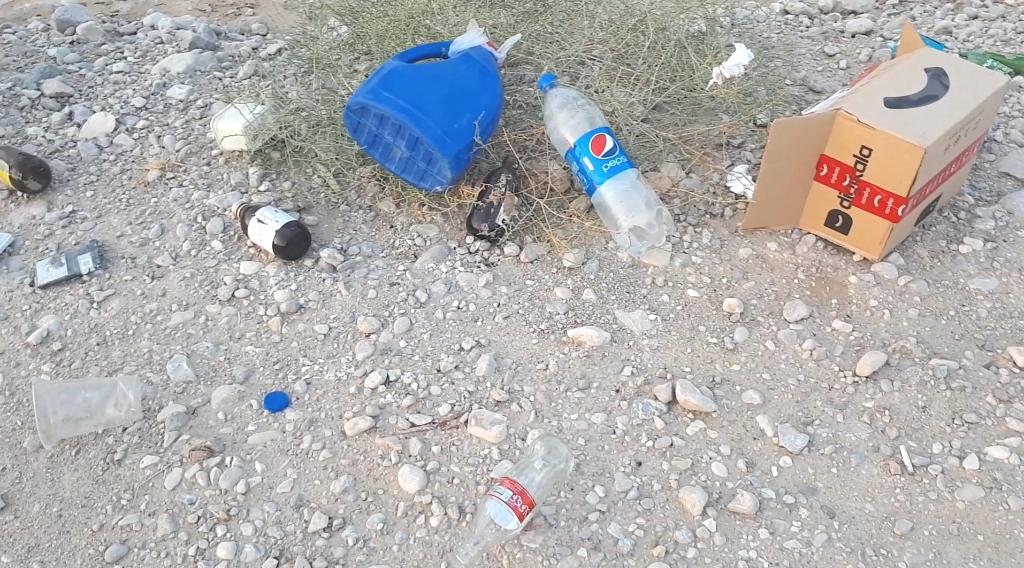garbage: (743, 32, 1014, 266), (517, 64, 696, 262), (336, 19, 533, 194), (343, 33, 503, 192), (537, 73, 675, 257), (430, 426, 592, 568), (447, 435, 575, 568), (221, 188, 322, 269), (0, 130, 67, 206), (466, 154, 520, 244), (232, 200, 311, 261), (1, 145, 52, 195), (960, 52, 1013, 74), (983, 50, 1023, 72)
